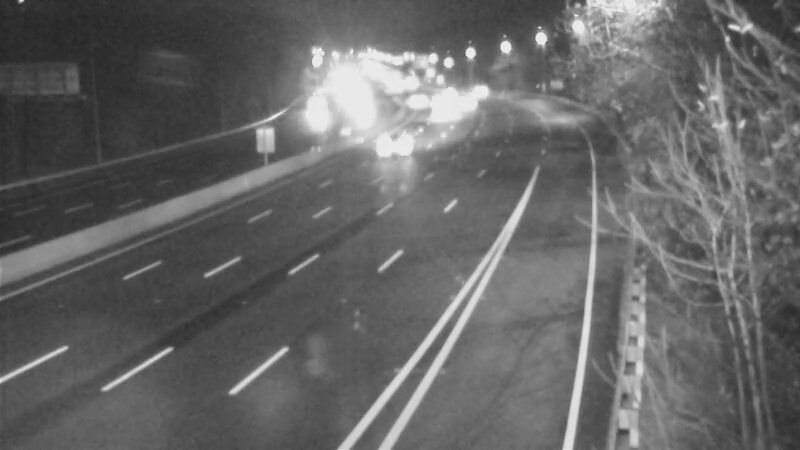vehicle: (422, 68, 472, 118), (454, 66, 504, 116), (443, 80, 493, 130), (409, 76, 459, 126), (392, 78, 442, 128), (419, 90, 469, 140), (363, 118, 413, 168), (292, 89, 342, 139)
